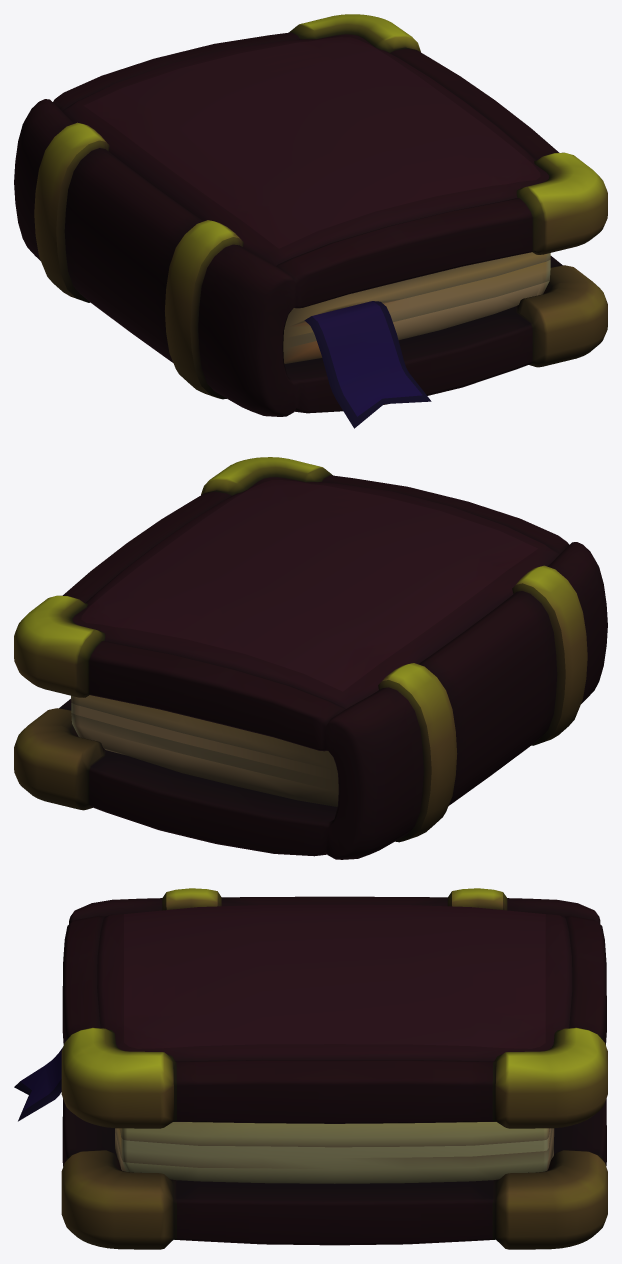
File: SM_UI_Story_StoryBook_01_Blockout_B.fbx
3 renders of one model, top to bottom at view 1: azimuth 30°, elevation 25°; view 2: azimuth 150°, elevation 25°; view 3: azimuth 270°, elevation 25°, orthographic. The views are drawn at different scales.
Parts seen in each view (by area): view 1: SM_UI_Story_StoryBook_01_Blockout_B; view 2: SM_UI_Story_StoryBook_01_Blockout_B; view 3: SM_UI_Story_StoryBook_01_Blockout_B.
Part boxes in pixels (x1,y1,x2,y2): SM_UI_Story_StoryBook_01_Blockout_B: [14, 14, 607, 428]; SM_UI_Story_StoryBook_01_Blockout_B: [14, 457, 607, 859]; SM_UI_Story_StoryBook_01_Blockout_B: [14, 888, 607, 1249].
Size of the model in its own units: 1.12 by 0.5301 by 1.35.
